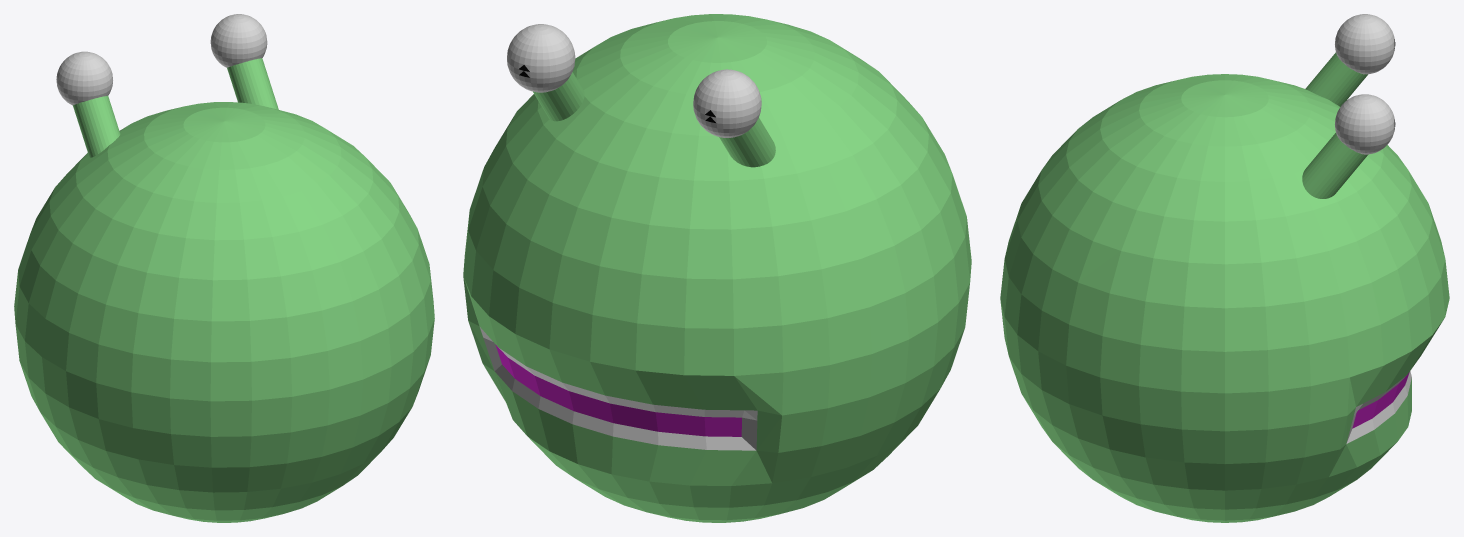
Rendered from PlaceholderModel.fbx.
3 renders of one model, left to right at view 1: azimuth 30°, elevation 25°; view 2: azimuth 150°, elevation 25°; view 3: azimuth 270°, elevation 25°, orthographic. The views are drawn at different scales.
Parts seen in each view (by area): view 1: Cylinder.001; view 2: Cylinder.001; view 3: Cylinder.001.
Part boxes in pixels (x1,y1,x2,y2): Cylinder.001: [14, 14, 434, 522]; Cylinder.001: [463, 14, 971, 522]; Cylinder.001: [1000, 14, 1449, 522].
Bounding box in the file's own units: 89.01 × 97.66 × 89.01.
